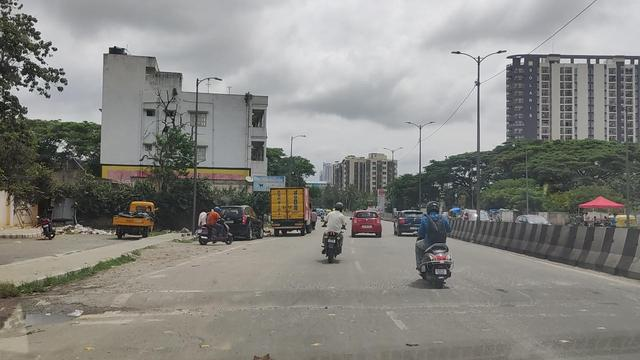HMV: (272, 187, 308, 228)
LMV: (415, 203, 451, 284), (326, 205, 346, 259), (353, 213, 380, 236)
RoadDamages: (10, 297, 136, 328)
SpeedBump: (111, 282, 602, 314)
